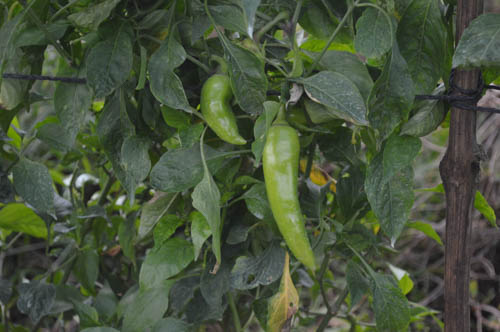ChiliPepper: (260, 126, 316, 271), (202, 76, 246, 145)
